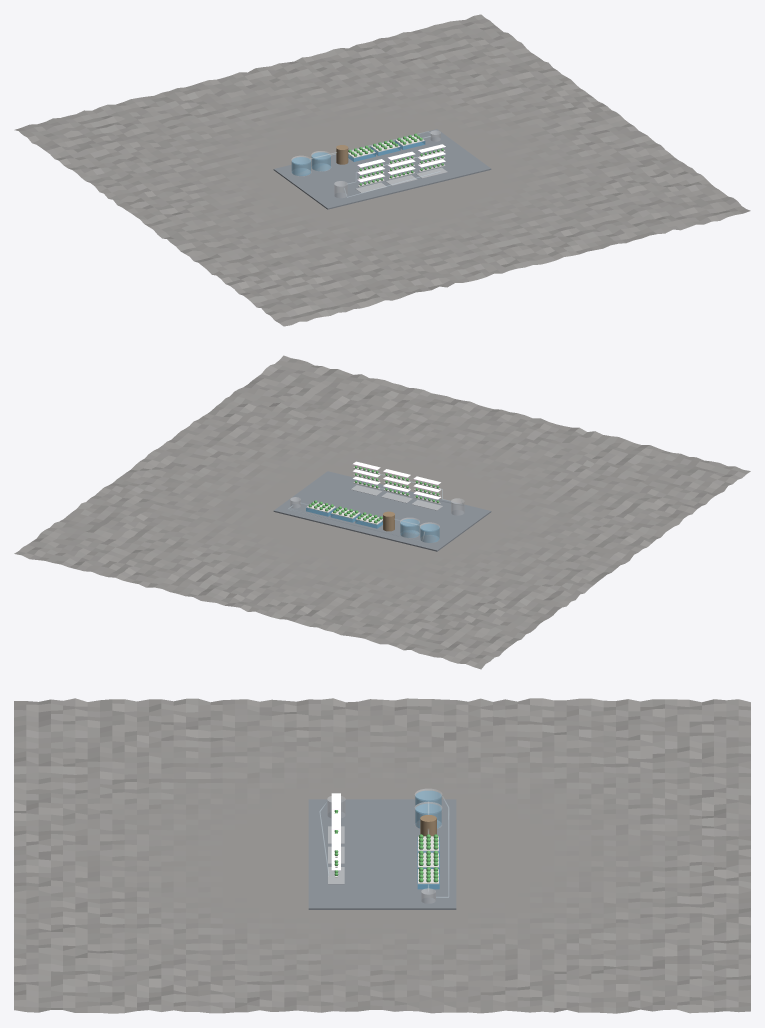
The model's file is food_module.glb.
3 renders of one model, top to bottom at view 1: azimuth 30°, elevation 25°; view 2: azimuth 150°, elevation 25°; view 3: azimuth 270°, elevation 25°, orthographic. The views are drawn at different scales.
Visible parts, largest first — view 1: Lunar_Ground, Greenhouse_Floor; view 2: Lunar_Ground, Greenhouse_Floor; view 3: Lunar_Ground, Greenhouse_Floor.
Boxes of the visible parts, x1=… form: Lunar_Ground: x1=14, y1=14, x2=750, y2=326; Greenhouse_Floor: x1=273, y1=129, x2=491, y2=209; Lunar_Ground: x1=14, y1=355, x2=750, y2=669; Greenhouse_Floor: x1=273, y1=471, x2=491, y2=551; Lunar_Ground: x1=14, y1=698, x2=750, y2=1013; Greenhouse_Floor: x1=308, y1=799, x2=456, y2=909.
Bounding box in the file's own units: 40 × 2.27 × 40.
